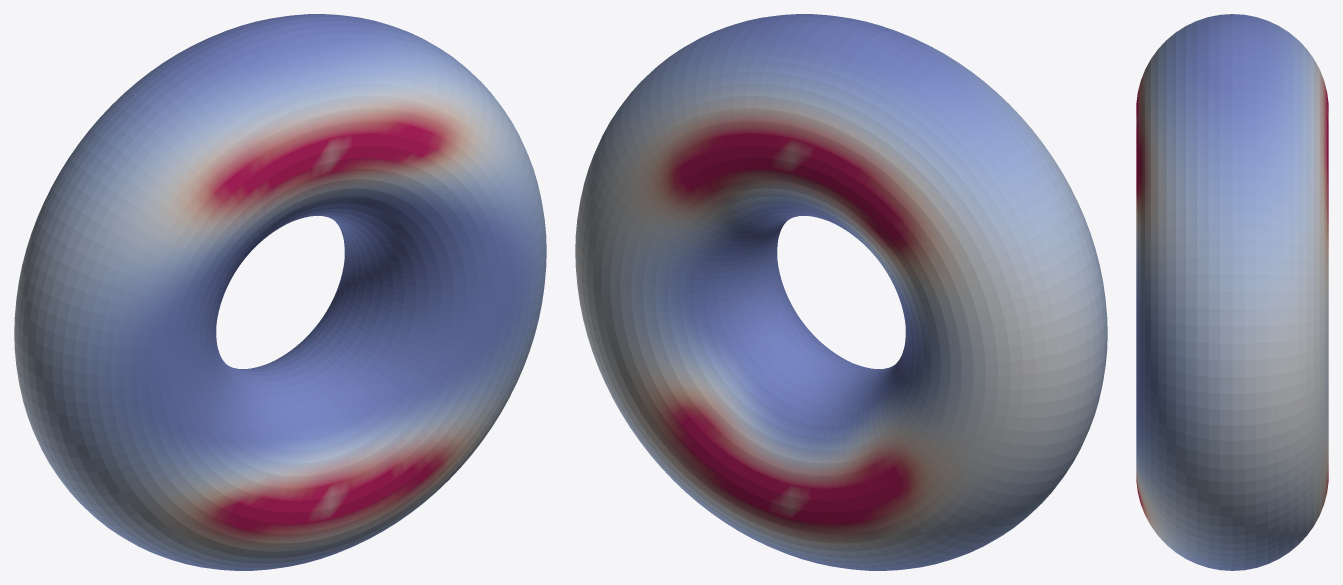
3 views of the same model, side by side, from view 1: azimuth 30°, elevation 25°; view 2: azimuth 150°, elevation 25°; view 3: azimuth 270°, elevation 25° (orthographic). The views are drawn at different scales.
Parts seen in each view (by area): view 1: world; view 2: world; view 3: world.
Part boxes in pixels (x1,y1,x2,y2): world: (14, 14, 546, 570); world: (575, 14, 1107, 570); world: (1136, 14, 1328, 570).
Size of the model in its own units: 17.33 by 17.33 by 5.99.
